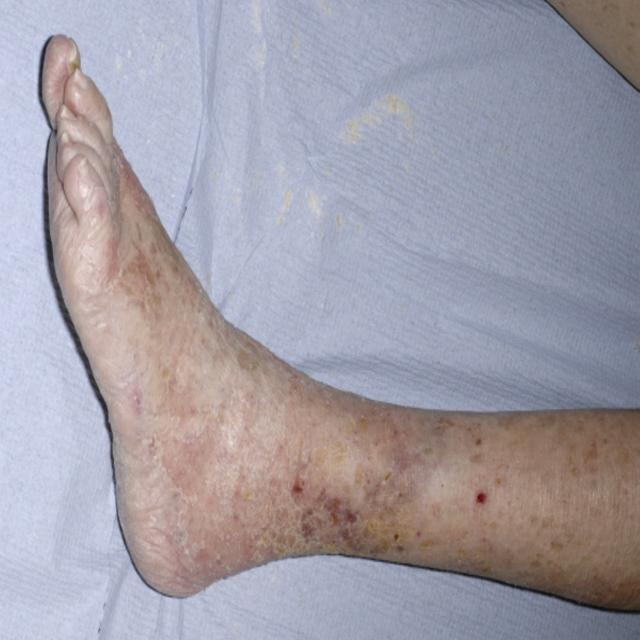wound: (276, 408, 451, 566)
